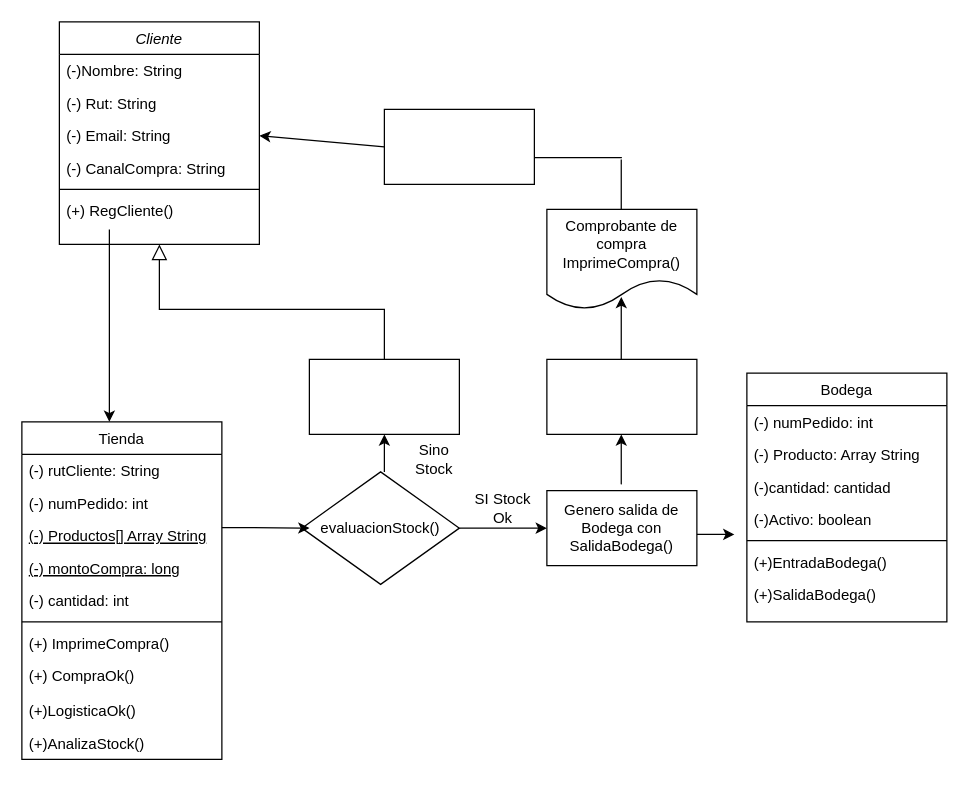
This 969x785 diagram has some shape labels left out. The centre of each missing label's shape, as x and y in pixels:
Anulacion de compra AnulaCompra(): (383,396)
Entrega de Compra LogisticaOk(): (458,146)
Genero compraOk(): (621,396)
